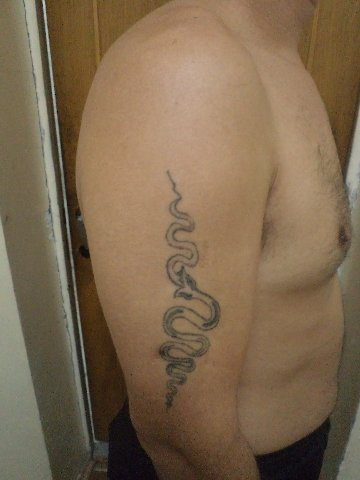tatu7_zmeya: (138, 137, 231, 421)
